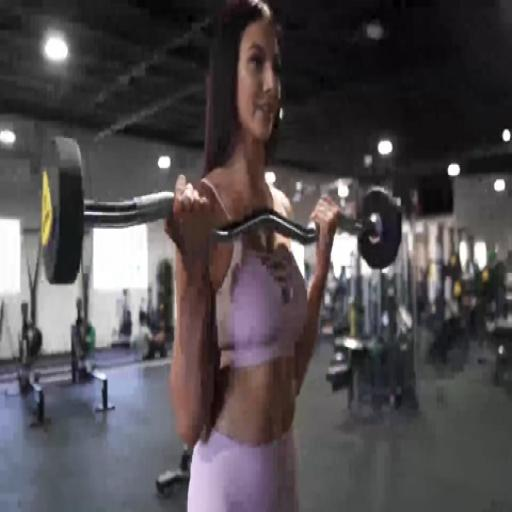exercise: (164, 0, 342, 511)
